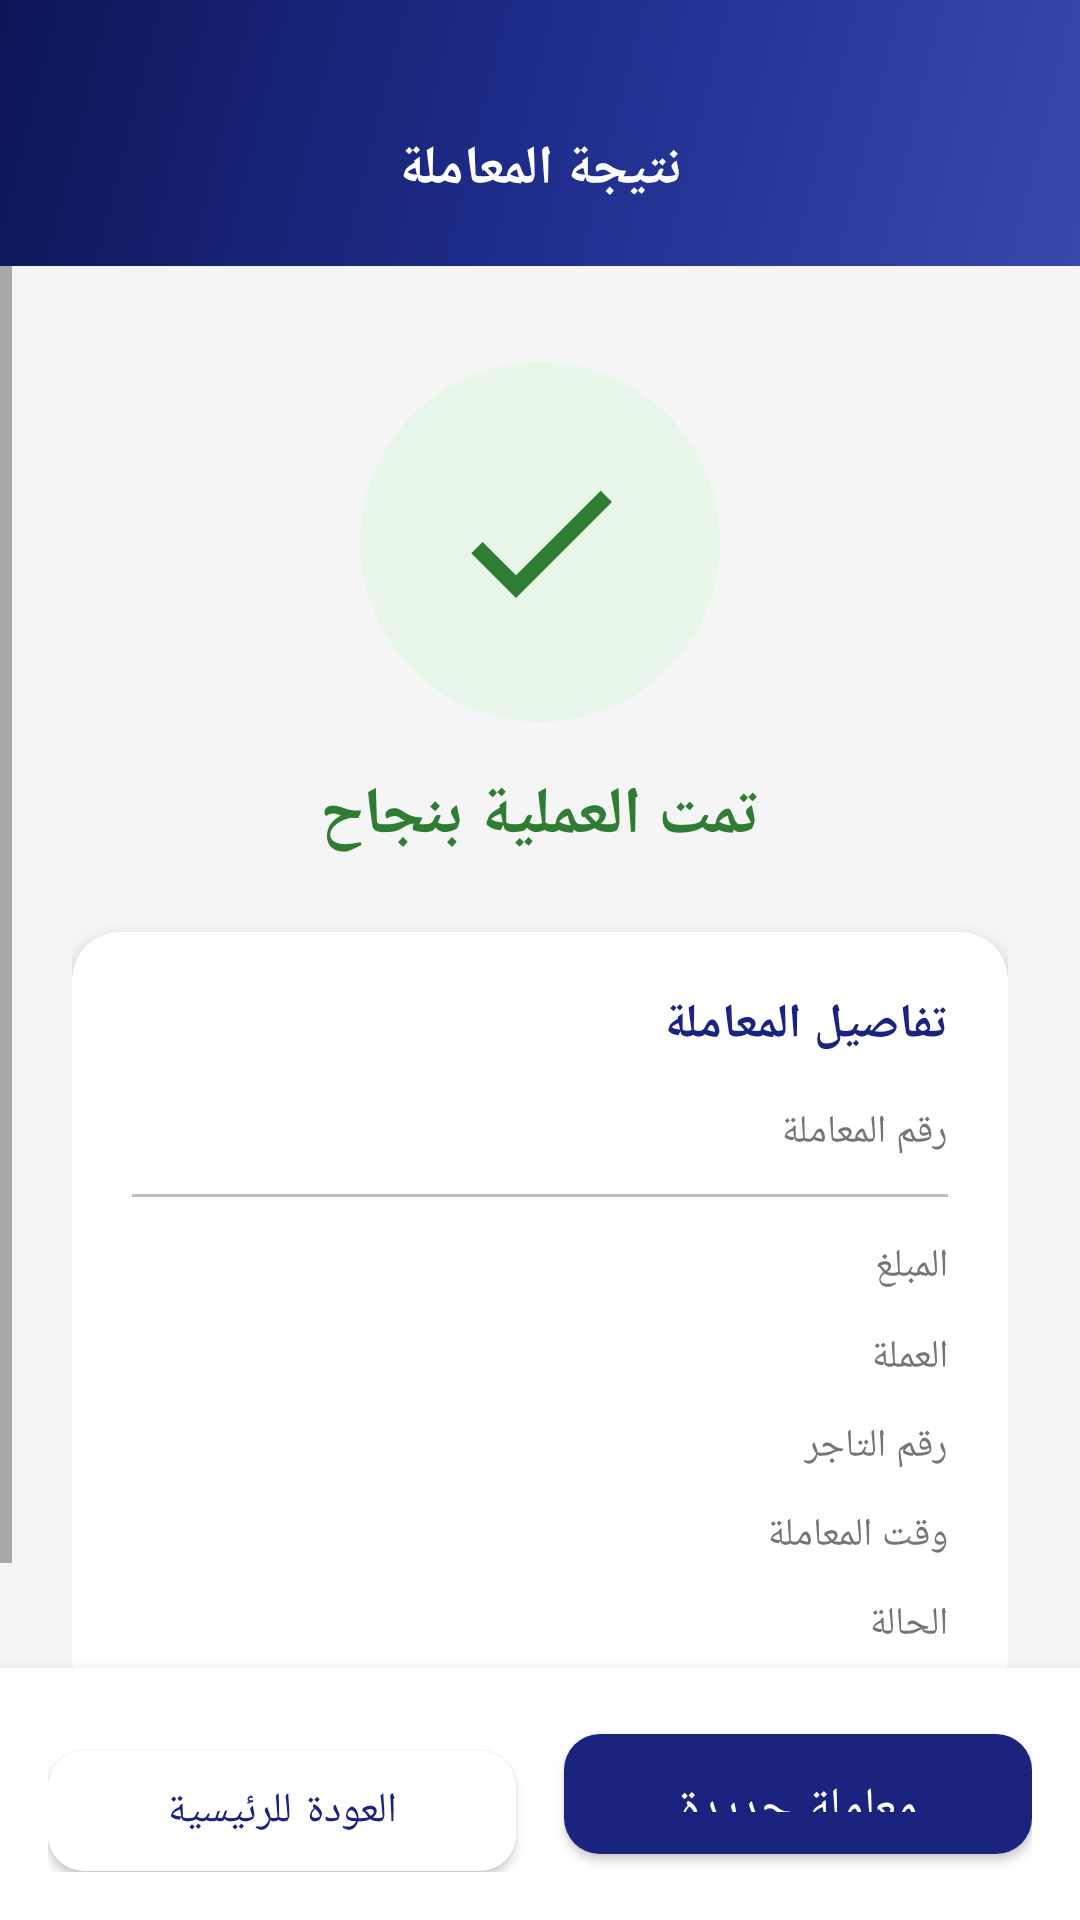

Named icons in this screenshot (1080px x 1920px) and their bounding boxes, (x1, y1, x2, y2):
result: (471, 491, 612, 598)
